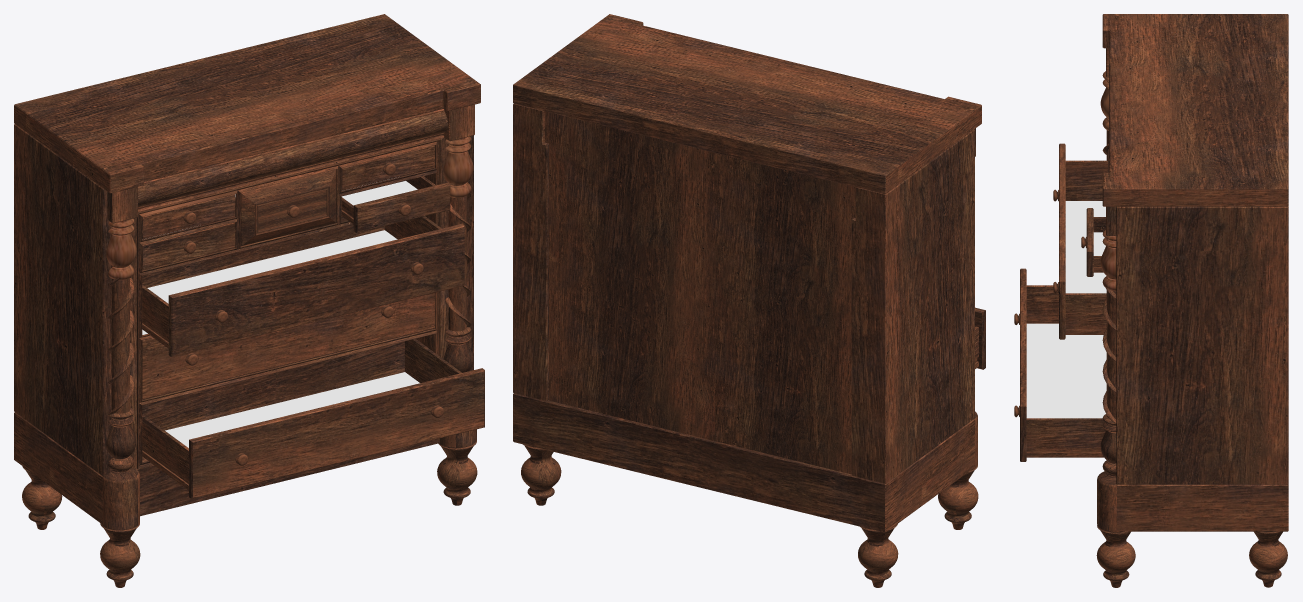
Rendered from Draws.gltf.
The picture shows the model from 3 angles, left to right: view 1: azimuth 30°, elevation 25°; view 2: azimuth 150°, elevation 25°; view 3: azimuth 270°, elevation 25°; orthographic projection. The views are drawn at different scales.
Parts seen in each view (by area): view 1: Body, Draw_Bottom, Draw_Top, Draw_Mid, Draw_Centre, Draw_Right_Bottom, Draw_Left_Bottom, Draw_Right_Top, Draw_Left_Top; view 2: Body, Draw_Bottom; view 3: Body, Draw_Bottom, Draw_Top, Draw_Right_Bottom.
Boxes of the visible parts, bbox=[...] form: Body: bbox=[14, 14, 480, 587]; Draw_Bottom: bbox=[142, 335, 484, 498]; Draw_Top: bbox=[142, 216, 464, 356]; Draw_Mid: bbox=[142, 293, 434, 399]; Draw_Centre: bbox=[235, 169, 336, 245]; Draw_Right_Bottom: bbox=[341, 176, 450, 232]; Draw_Left_Bottom: bbox=[142, 222, 235, 270]; Draw_Right_Top: bbox=[341, 145, 434, 190]; Draw_Left_Top: bbox=[142, 194, 235, 239]; Body: bbox=[513, 14, 981, 587]; Draw_Bottom: bbox=[975, 307, 985, 369]; Body: bbox=[1096, 14, 1288, 587]; Draw_Bottom: bbox=[1014, 268, 1106, 461]; Draw_Top: bbox=[1053, 143, 1107, 339]; Draw_Right_Bottom: bbox=[1081, 208, 1105, 276].
Size of the model in its own units: 1.2 by 1.3 by 0.7954.
3 materials, 2 textured.
